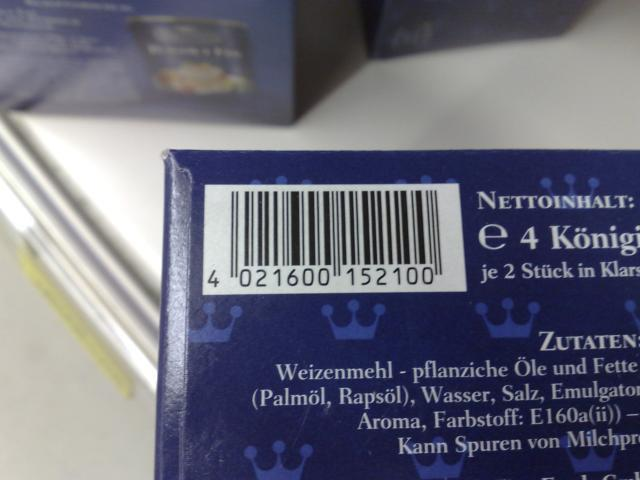Barcode: (201, 182, 450, 292)
